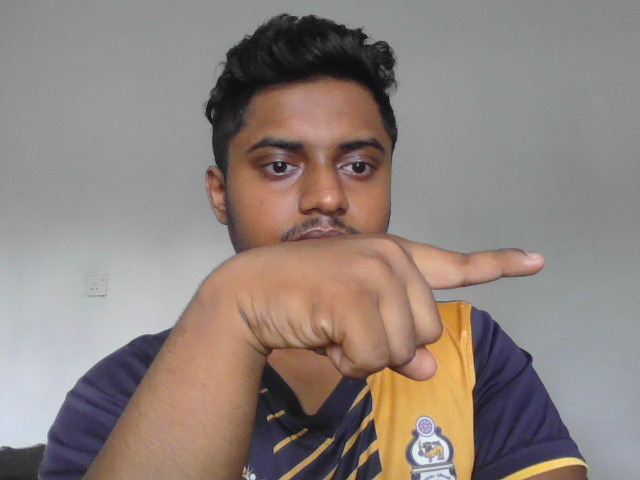Going To: (171, 232, 547, 379)
